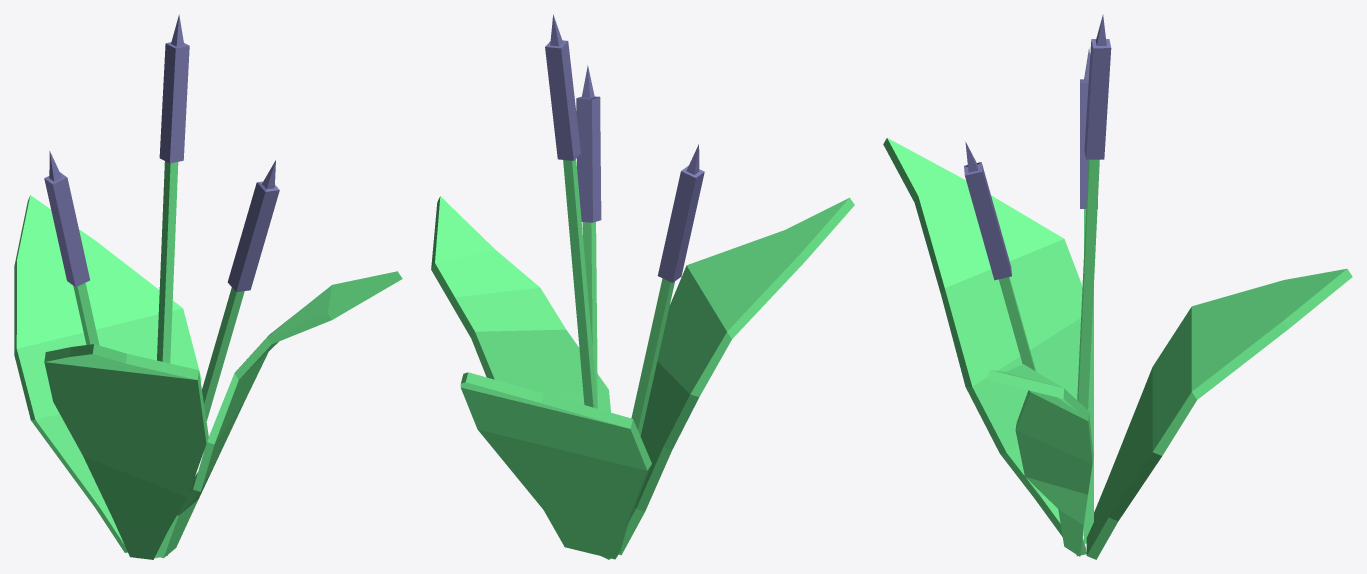
The model's file is SM_BigGrass_02.fbx.
The picture shows the model from 3 angles, left to right: view 1: azimuth 30°, elevation 25°; view 2: azimuth 150°, elevation 25°; view 3: azimuth 270°, elevation 25°; orthographic projection. The views are drawn at different scales.
Parts seen in each view (by area): view 1: Plane.002; view 2: Plane.002; view 3: Plane.002.
Part boxes in pixels (x1,y1,x2,y2): Plane.002: [14, 14, 402, 559]; Plane.002: [431, 14, 854, 559]; Plane.002: [883, 14, 1352, 559].
Size of the model in its own units: 65.98 by 92.42 by 70.89.
